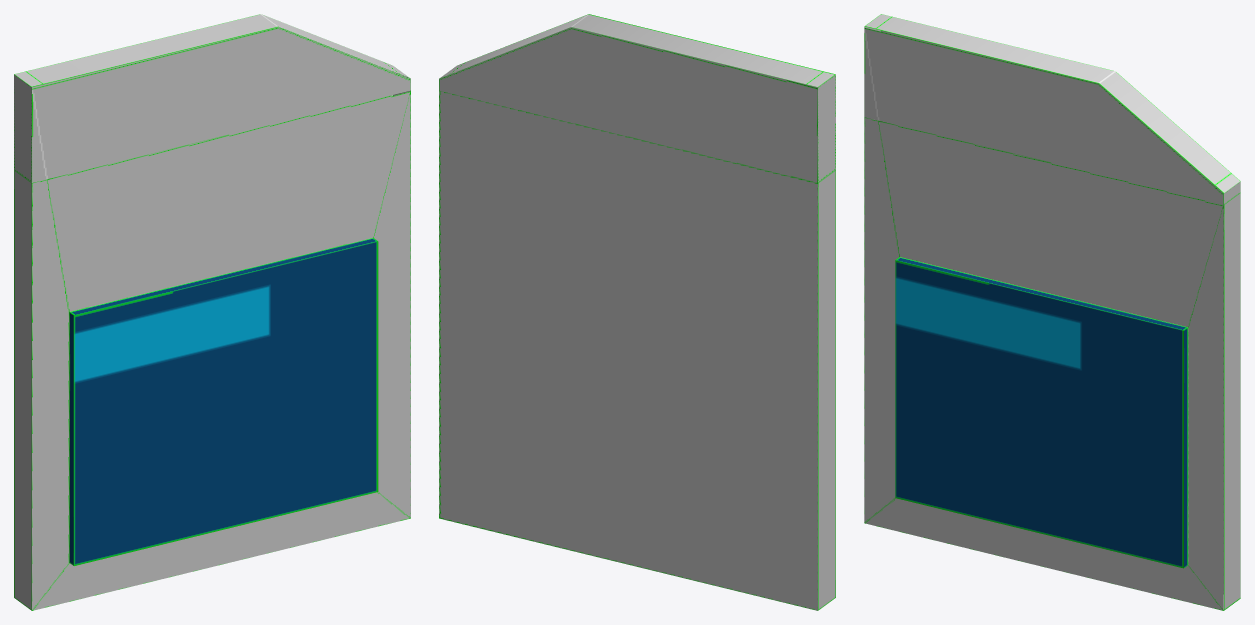
The model's file is memorychip.FBX.
3 renders of one model, left to right at view 1: azimuth 30°, elevation 25°; view 2: azimuth 150°, elevation 25°; view 3: azimuth 330°, elevation 25°, orthographic. The views are drawn at different scales.
Visible parts, largest first — view 1: Box001; view 2: Box001; view 3: Box001.
Part boxes in pixels (x1,y1,x2,y2): Box001: (14,14,410,610); Box001: (439,14,835,610); Box001: (864,14,1240,610).
Size of the model in its own units: 29.71 by 39.24 by 3.07.
1 material, 1 textured.
